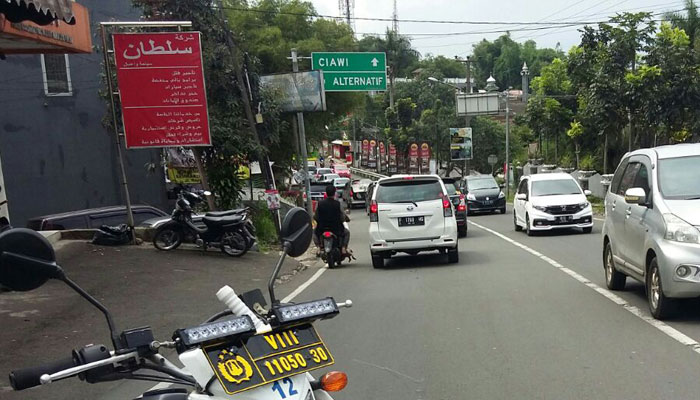plate: (201, 316, 338, 395)
